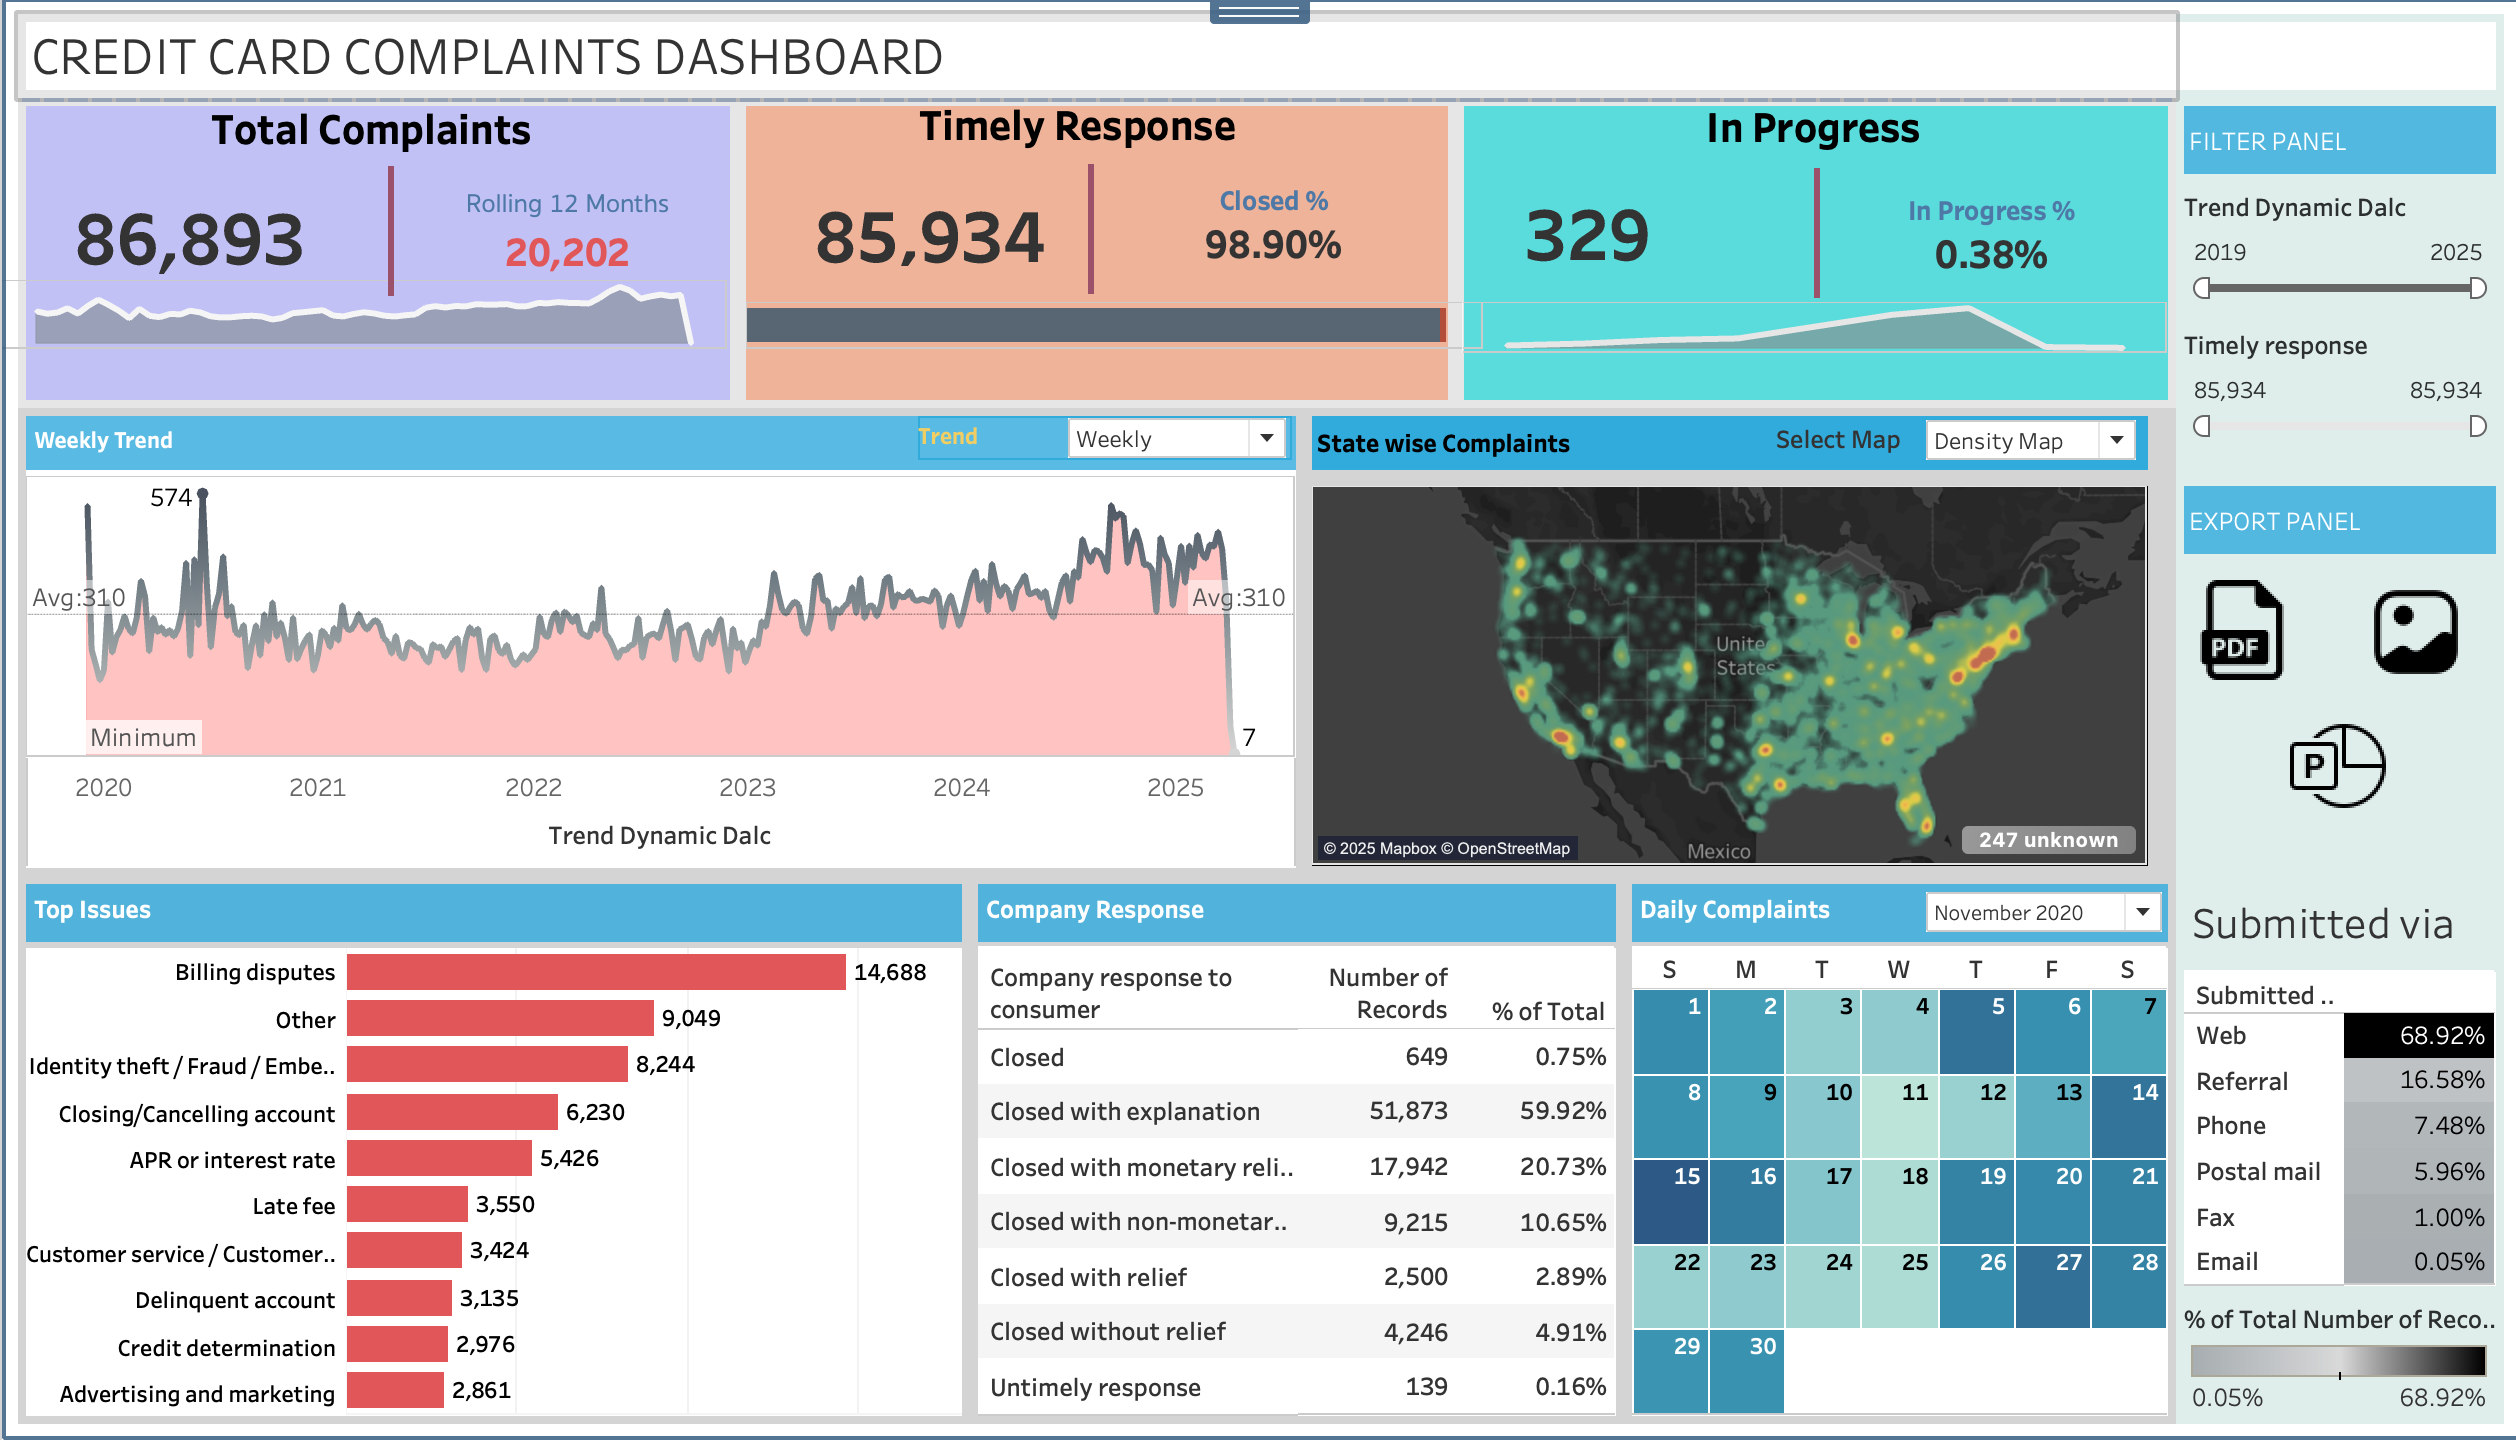

The page's visual inventory and layout, read from the dashboard file:
{"tool":"tableau","page":{"name":"Dashboard 1","canvas":[1259,721],"ordinal":0},"visuals":[{"type":"title","box":[8,8,1079,42]},{"type":"blank","box":[1087,8,164,42]},{"type":"text","box":[439,47.9,198,28.7]},{"type":"text","box":[807,48.8,198,28.7]},{"type":"text","box":[86,49.6,198,28.7]},{"type":"blank","box":[8,50,359.7,154.8]},{"type":"blank","box":[367.7,50,359.7,154.8]},{"type":"blank","box":[727.3,50,359.7,154.8]},{"type":"text","box":[1087,50,164,42]},{"type":"worksheet","title":"Closed %","mark":"Automatic","box":[567,80.1,137,67.9]},{"type":"blank","box":[543,82.7,3,65.3]},{"type":"blank","box":[193,83.6,3,65.3]},{"type":"blank","box":[906,85.3,3,65.3]},{"type":"worksheet","title":"In progress %","mark":"Automatic","box":[935,87.1,120,63.6]},{"type":"worksheet","title":"Rolling 12 months complaints","mark":"Automatic","box":[217,89.7,132,52.2]},{"type":"filter","title":"Trend","param":"[federated.0mbqj3z0c6f8l41gm4smp0xh42sw].[none:Calculation_6829075573575770121:q","box":[1087,92,164,69]},{"type":"worksheet","title":"In Progress Complaints ","mark":"Automatic","box":[746,95.8,94,41.8]},{"type":"worksheet","title":"Total Complaints","mark":"Automatic","box":[22,98.4,143,40.9]},{"type":"worksheet","title":"Timely response","mark":"Automatic","box":[400,101,128,33.1]},{"type":"worksheet","title":"In Progress Sparkline","mark":"Automatic","rows":["Calculation_6829075573516333063","Calculation_6829075573516333063"],"cols":["Date received"],"box":[730,151.5,353,26.1]},{"type":"worksheet","title":"Progress Bar","mark":"Bar","cols":["Calculation_6829075573490765830","Calculation_6829075573489414148"],"box":[372,152.4,369,24.4]},{"type":"filter","title":"Timely response","param":"[federated.0mbqj3z0c6f8l41gm4smp0xh42sw].[sum:Calculation_6829075573488865283:qk","box":[1087,161,164,79]},{"type":"worksheet","title":"Trend","mark":"Automatic","rows":["Number of Records","Number of Records"],"cols":["Calculation_6829075573575770121"],"box":[8,204.9,643,233.8]},{"type":"text","box":[651,204.9,426,35]},{"type":"parameter","param":"[Parameters].[Parameter 2]","box":[458,209,187,22]},{"type":"parameter","param":"[Parameters].[Parameter 3]","box":[887,210,183,22]},{"type":"worksheet","title":"Density Map","mark":"Heatmap","box":[651,239.9,426,197.8]},{"type":"text","box":[1087,240,164,42]},{"type":"blank","box":[1087,282,164,158]},{"type":"dashboard-object","box":[1095,290,50,52]},{"type":"dashboard-object","box":[1182,291,50,52]},{"type":"dashboard-object","box":[1143,358,50,52]},{"type":"worksheet","title":"Filled Map","mark":"Multipolygon","box":[651,437.6,426,1]},{"type":"worksheet","title":"Top Issues","mark":"Automatic","rows":["Issue"],"cols":["Number of Records"],"box":[8,438.6,476,274.4]},{"type":"worksheet","title":"Company Response","mark":"Automatic","rows":["Company response to consumer"],"box":[484,438.6,327,274.4]},{"type":"worksheet","title":"Daily Complaints","mark":"Square","rows":["Date received"],"cols":["Date received"],"box":[811,438.6,276,274.4]},{"type":"worksheet","title":"Submitted via","mark":"Square","rows":["Submitted via"],"box":[1087,440,164,208]},{"type":"filter","title":"Daily Complaints","param":"[federated.0mbqj3z0c6f8l41gm4smp0xh42sw].[my:Date received:ok]","box":[959,444,124,26]},{"type":"legend","title":"Submitted via","param":"[federated.0mbqj3z0c6f8l41gm4smp0xh42sw].[pcto:sum:Number of Records:qk]","box":[1087,648,164,65]}]}

Visuals, with their boxes in screenshot pixels (x1, y1, x2, y2), scaled from the page's 1259x721 canvas onto the 2516x1440 screenshot:
title: bbox=[16, 16, 2172, 100]
blank: bbox=[2172, 16, 2500, 100]
text: bbox=[877, 96, 1273, 153]
text: bbox=[1613, 97, 2008, 155]
text: bbox=[172, 99, 568, 156]
blank: bbox=[16, 100, 735, 409]
blank: bbox=[735, 100, 1454, 409]
blank: bbox=[1453, 100, 2172, 409]
text: bbox=[2172, 100, 2500, 184]
"Closed %" worksheet: bbox=[1133, 160, 1407, 296]
blank: bbox=[1085, 165, 1091, 296]
blank: bbox=[386, 167, 392, 297]
blank: bbox=[1811, 170, 1817, 301]
"In progress %" worksheet: bbox=[1869, 174, 2108, 301]
"Rolling 12 months complaints" worksheet: bbox=[434, 179, 697, 283]
"Trend" filter: bbox=[2172, 184, 2500, 322]
"In Progress Complaints " worksheet: bbox=[1491, 191, 1679, 275]
"Total Complaints" worksheet: bbox=[44, 197, 330, 278]
"Timely response" worksheet: bbox=[799, 202, 1055, 268]
"In Progress Sparkline" worksheet: bbox=[1459, 303, 2164, 355]
"Progress Bar" worksheet (Bar marks): bbox=[743, 304, 1481, 353]
"Timely response" filter: bbox=[2172, 322, 2500, 479]
"Trend" worksheet: bbox=[16, 409, 1301, 876]
text: bbox=[1301, 409, 2152, 479]
parameter: bbox=[915, 417, 1289, 461]
parameter: bbox=[1773, 419, 2138, 463]
"Density Map" worksheet (Heatmap marks): bbox=[1301, 479, 2152, 874]
text: bbox=[2172, 479, 2500, 563]
blank: bbox=[2172, 563, 2500, 879]
dashboard-object: bbox=[2188, 579, 2288, 683]
dashboard-object: bbox=[2362, 581, 2462, 685]
dashboard-object: bbox=[2284, 715, 2384, 819]
"Filled Map" worksheet (Multipolygon marks): bbox=[1301, 874, 2152, 876]
"Top Issues" worksheet: bbox=[16, 876, 967, 1424]
"Company Response" worksheet: bbox=[967, 876, 1621, 1424]
"Daily Complaints" worksheet (Square marks): bbox=[1621, 876, 2172, 1424]
"Submitted via" worksheet (Square marks): bbox=[2172, 879, 2500, 1294]
"Daily Complaints" filter: bbox=[1916, 887, 2164, 939]
"Submitted via" legend: bbox=[2172, 1294, 2500, 1424]
